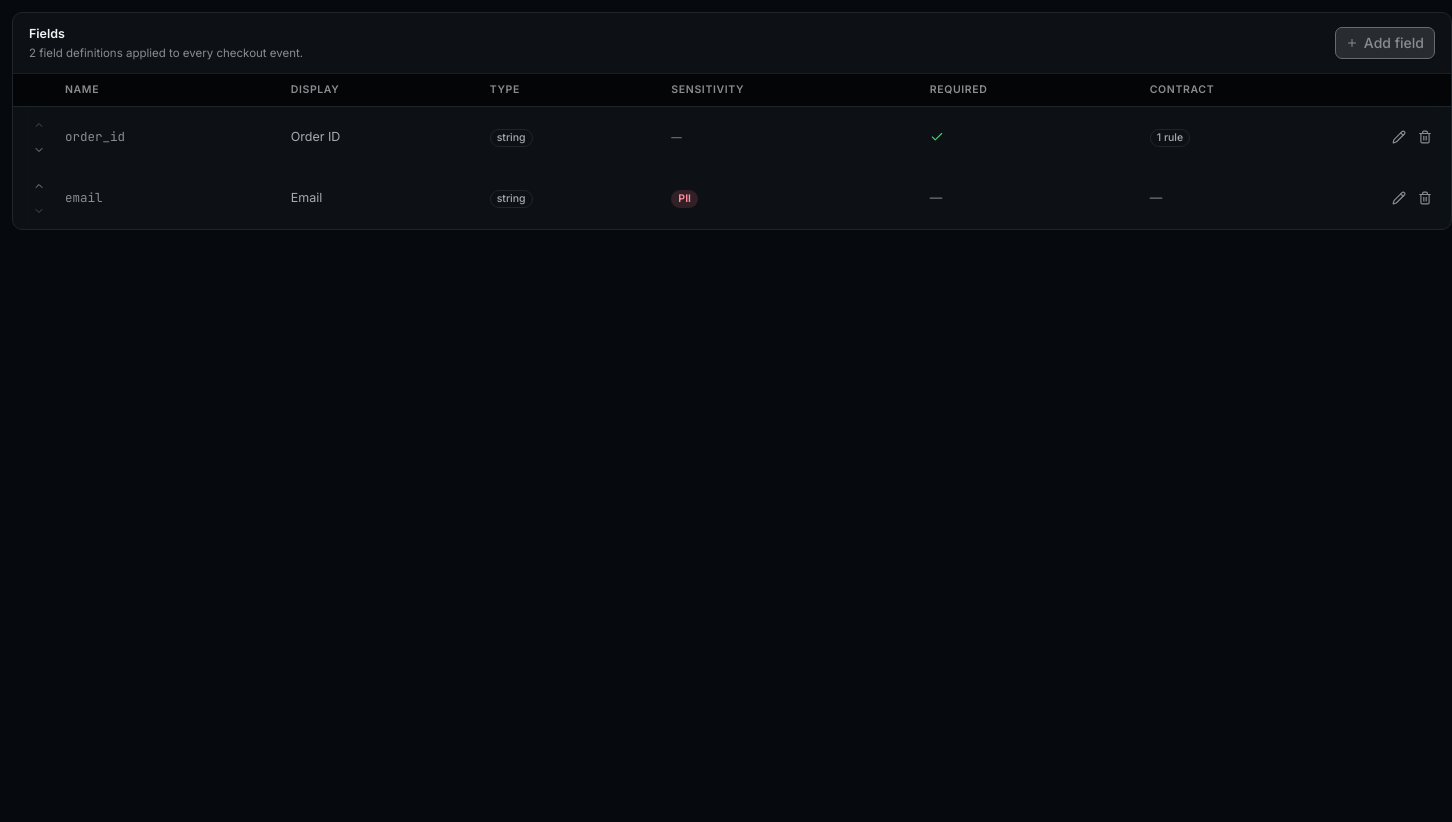
Scenario: FieldsEditor field edit subpage (PLAN-46) › leaves an untouched field page at once
The width and height of the screenshot is (1452, 822).
Click the button "Add field".
click(1385, 43)  # box top-left (1335, 27), bottom-right (1435, 59)
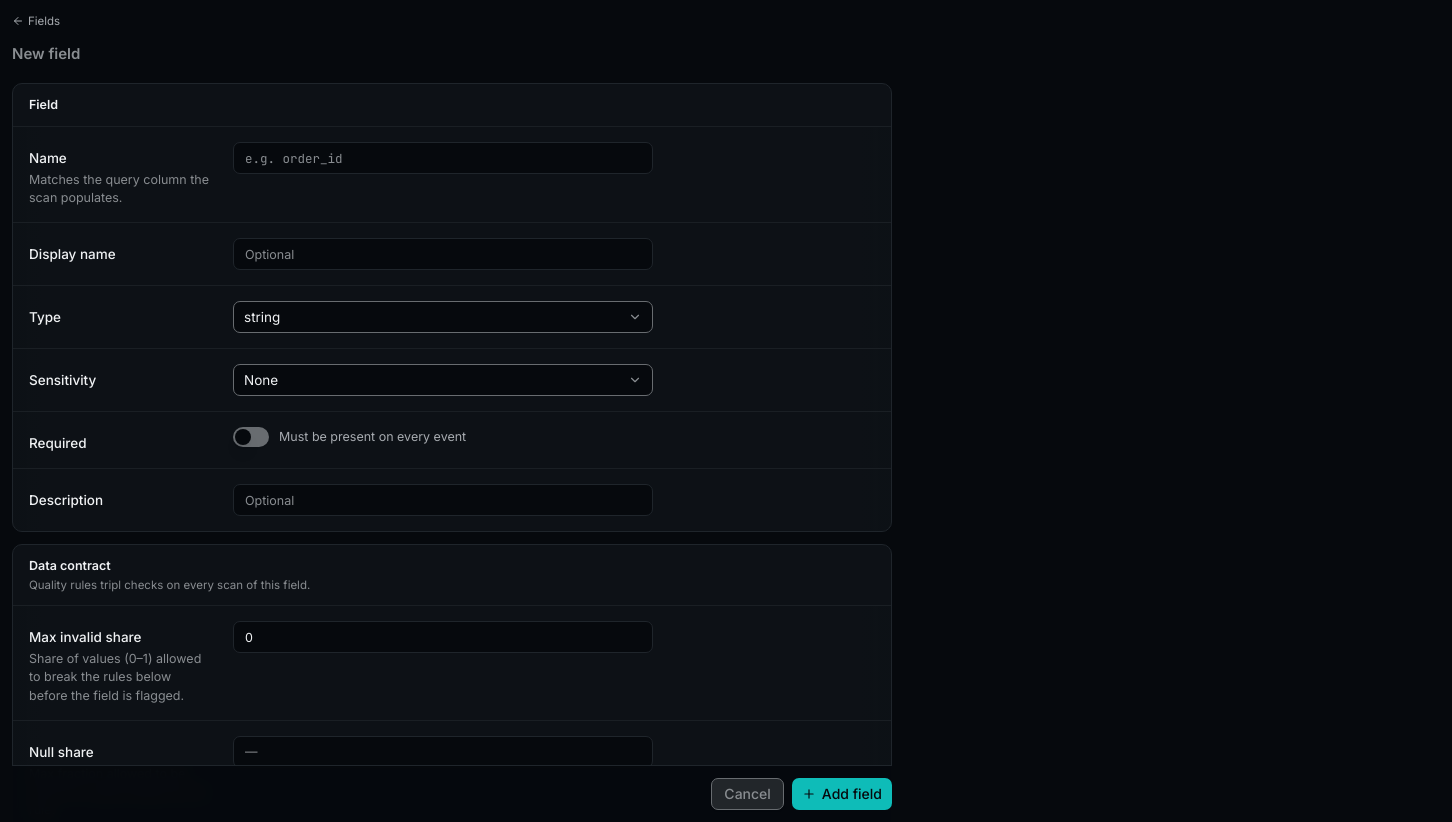
Click the button "Cancel".
click(748, 794)  # box top-left (711, 778), bottom-right (784, 810)
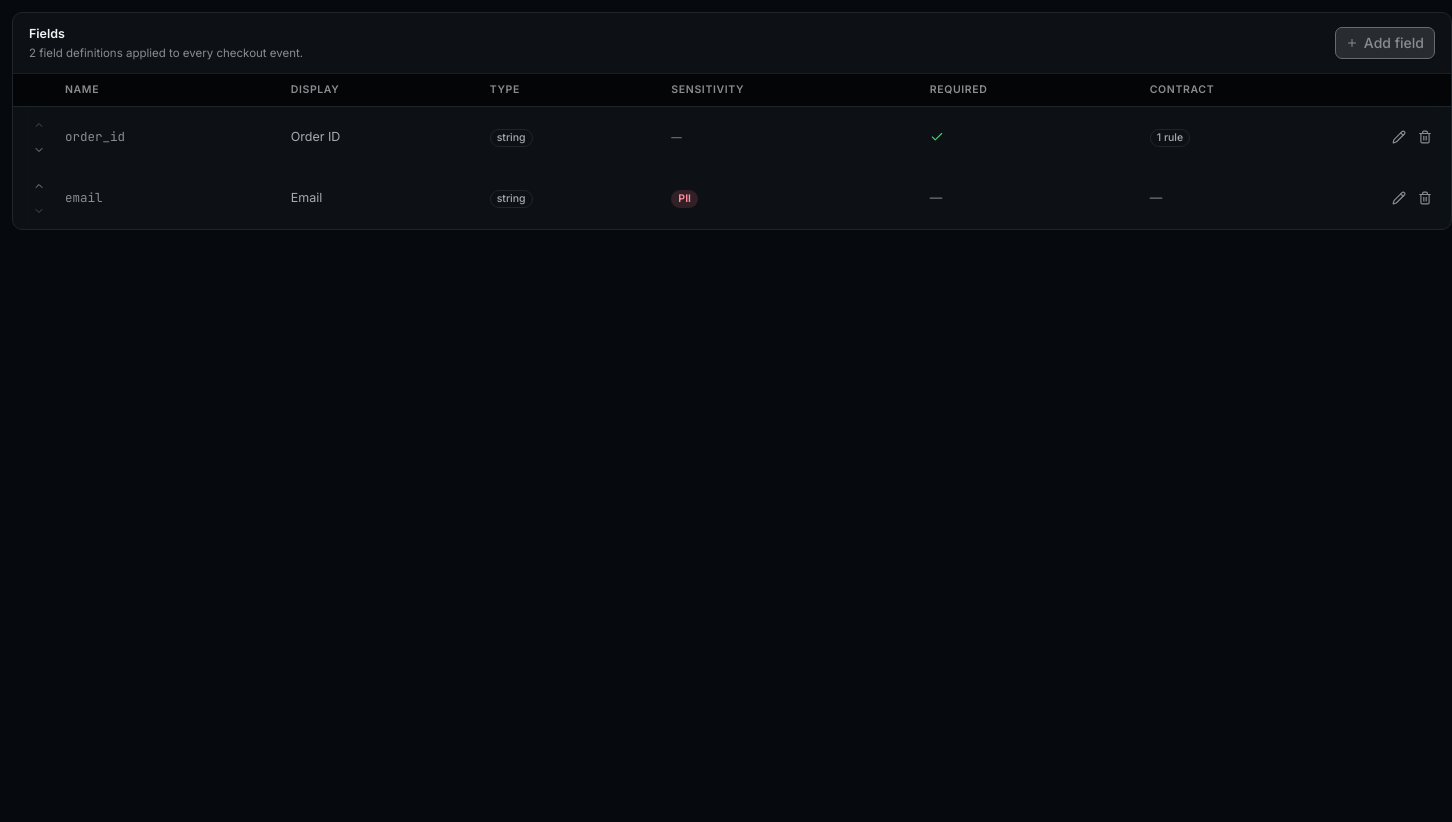
expect the heading "New field" is gone: met
